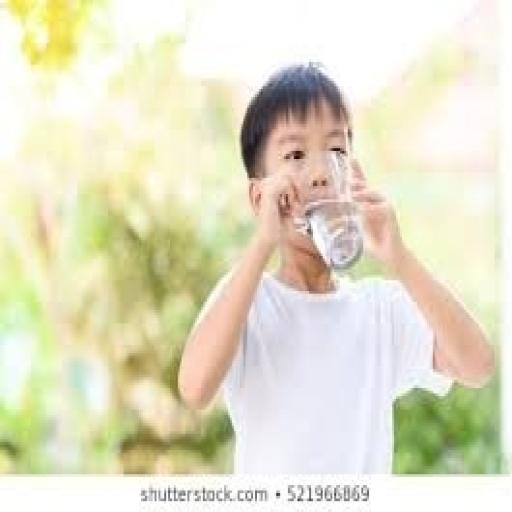drinking: (282, 148, 365, 272)
